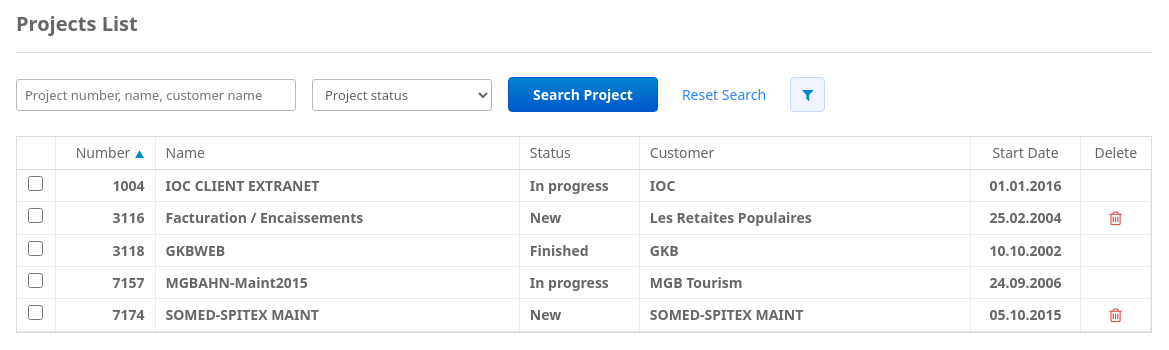
Test case: ProjectList Component Tests › filters projects by search keyword
The width and height of the screenshot is (1169, 350).
Expected: the link "3116" is shown, [112, 208, 144, 227]
// Search for 7157
Type "7157" into the field with placeholder "Project number, name, customer name" at (156, 94), box [16, 78, 296, 110]
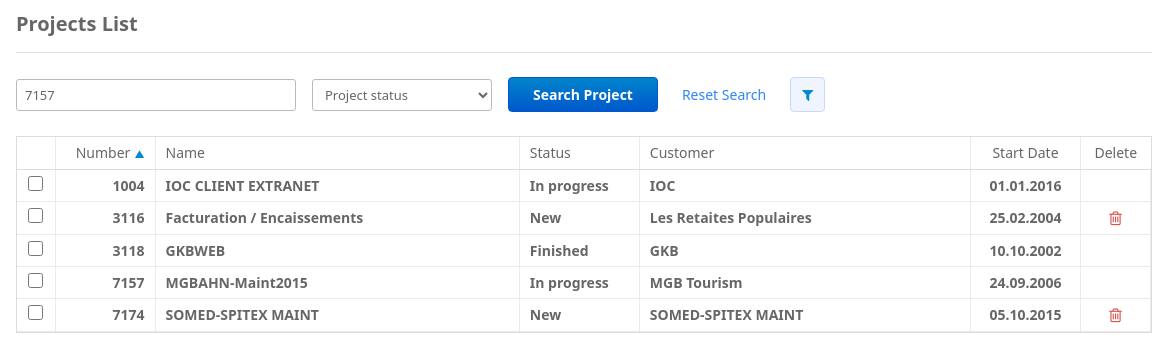
Click the button "Search Project" at (583, 94), box [508, 77, 658, 112]
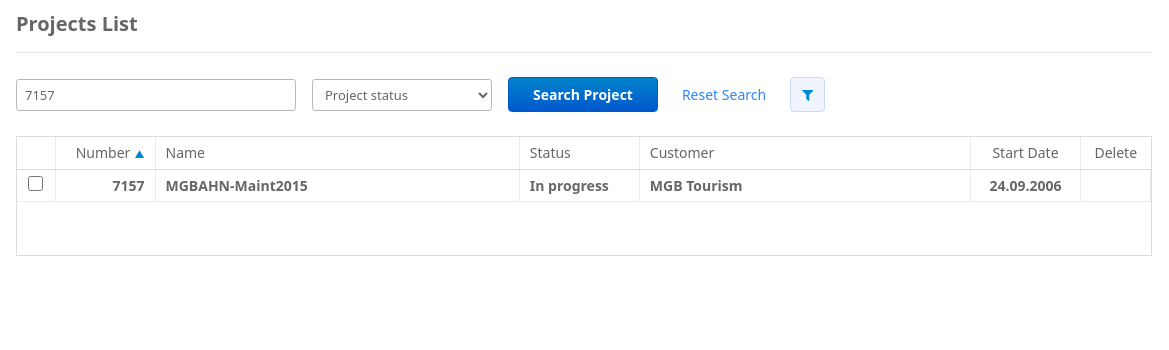
Expected: the link "7157" is shown, [112, 176, 144, 194]
Result: the link "3116" is gone
// Reset search
Click the button "Reset Search" at (724, 94), box [674, 84, 774, 105]
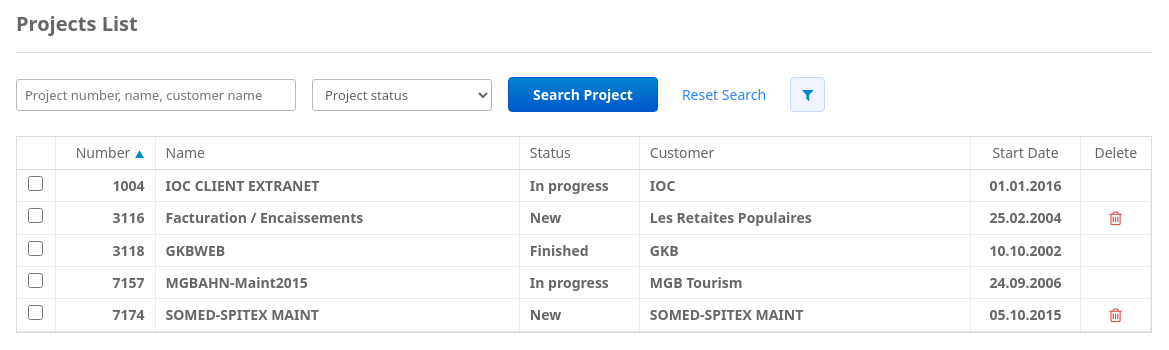
Result: the link "3116" is shown at [112, 208, 144, 227]
